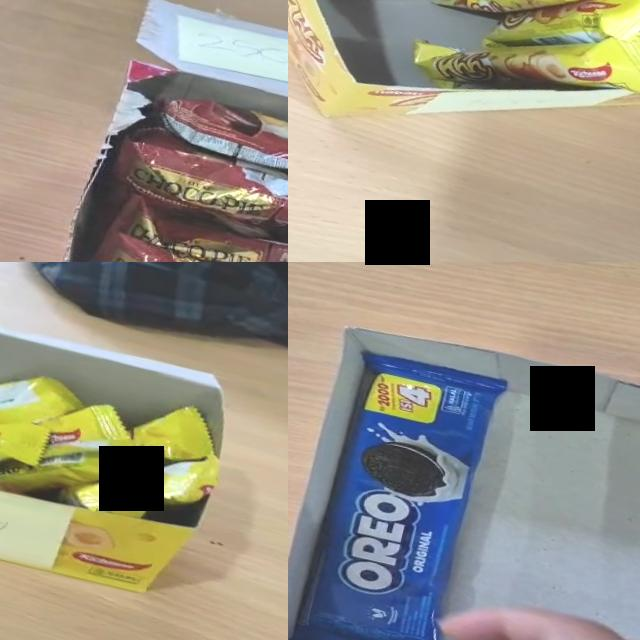Ahh: (406, 0, 640, 138), (0, 377, 147, 518), (57, 424, 223, 537), (481, 0, 640, 98), (0, 332, 88, 478), (122, 393, 227, 486), (430, 0, 636, 46), (0, 382, 56, 485)
Chocopie: (103, 119, 288, 257), (146, 86, 288, 182), (105, 189, 288, 262), (68, 224, 288, 262)
Oreo: (288, 344, 510, 640)
